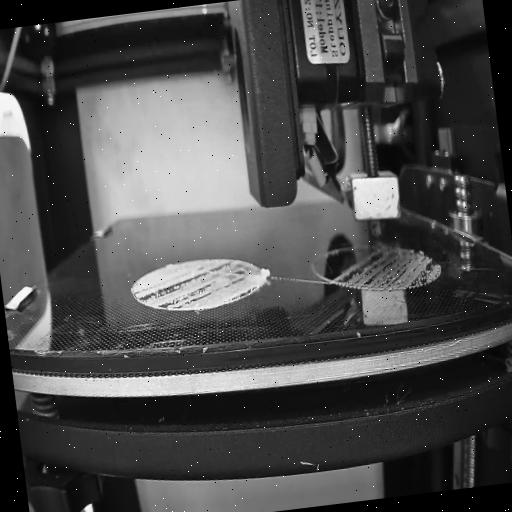under_extrusion: (130, 258, 260, 314), (338, 243, 442, 295)
